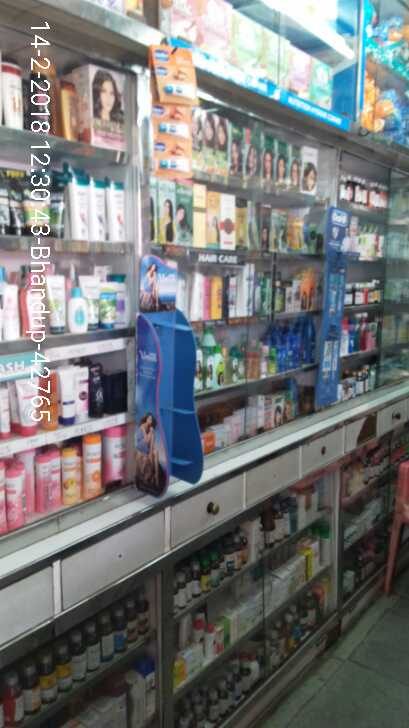reject: (148, 305, 237, 407)
